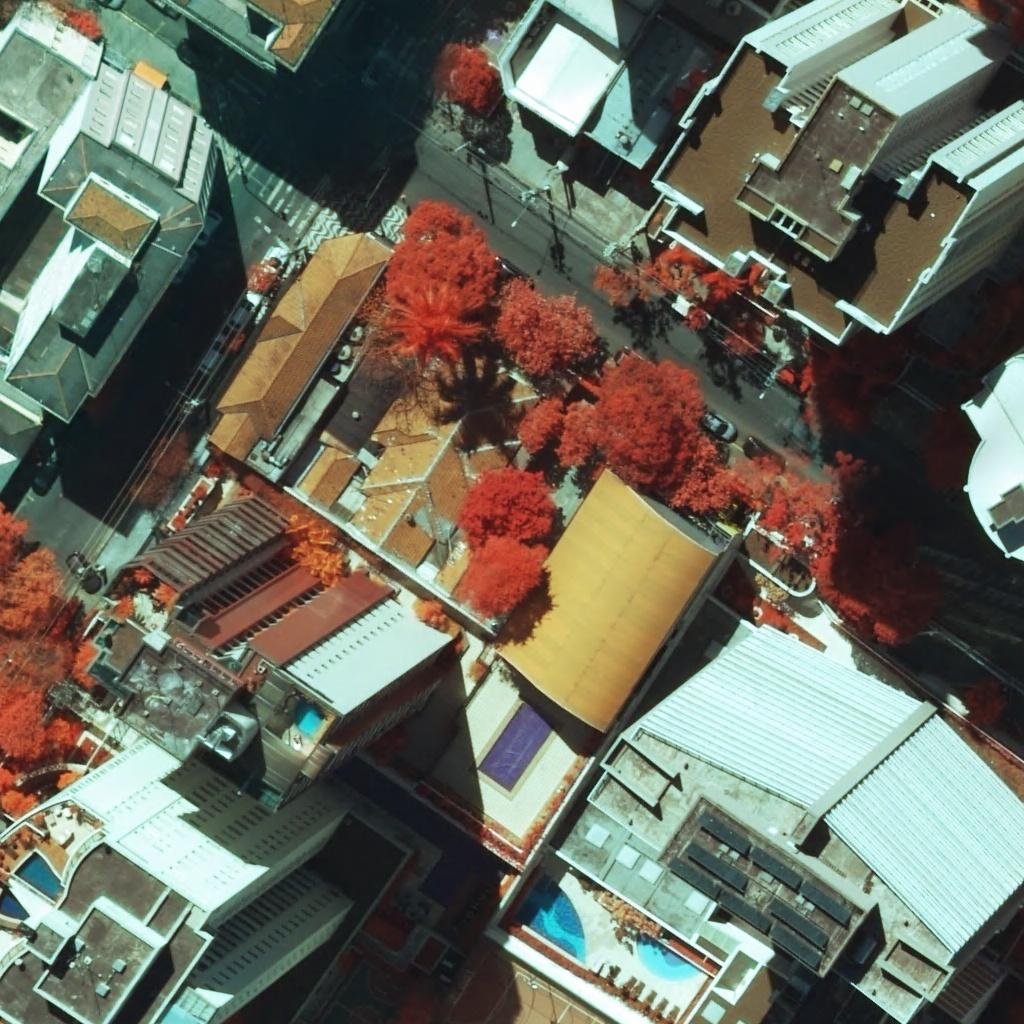pool: (478, 703, 556, 791), (515, 874, 585, 964), (636, 935, 702, 981), (14, 852, 64, 903), (295, 702, 324, 736)
